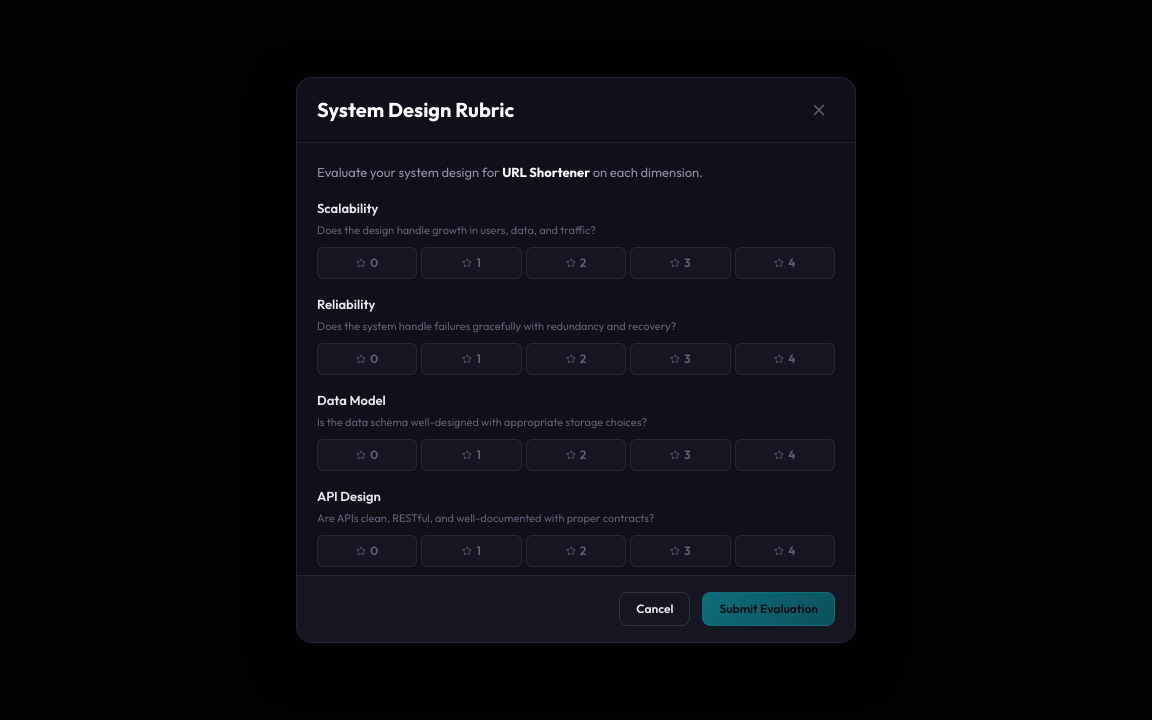
Test: SystemDesignRubric › score buttons › shows "Strong" label after clicking score 3
The width and height of the screenshot is (1152, 720).
Click the button "3" below "Scalability": [680, 262] box [630, 246, 731, 278]
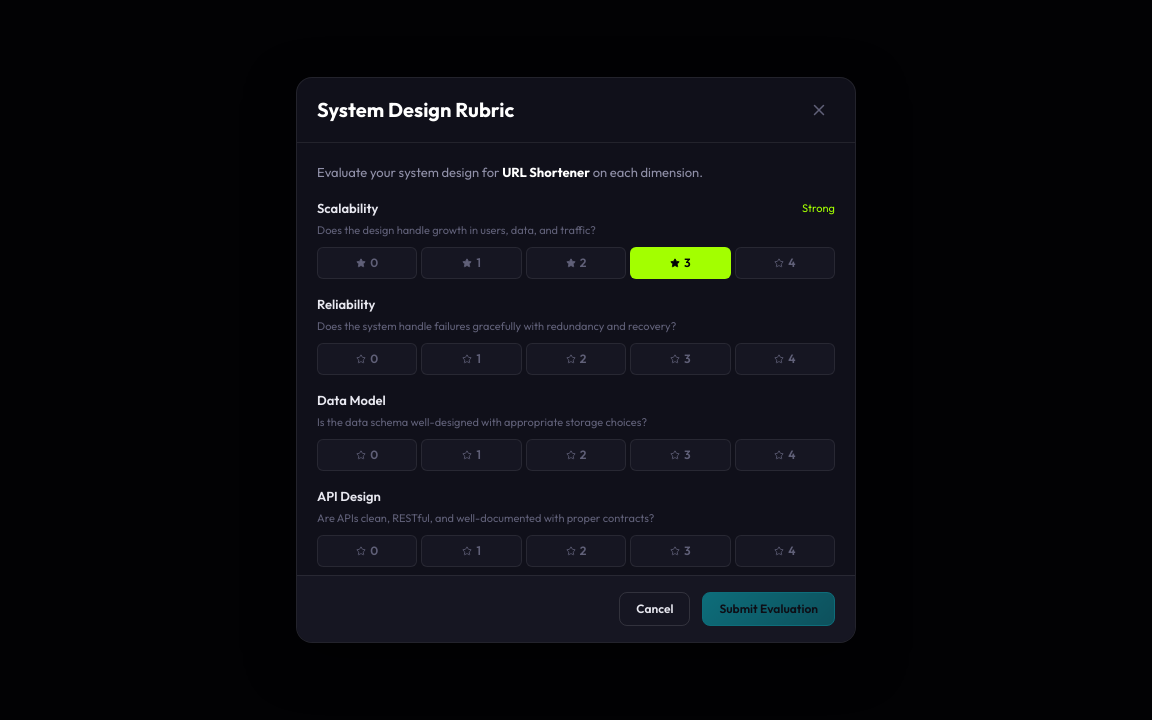
Result: the text "Strong" is shown at [802, 200, 835, 216]
